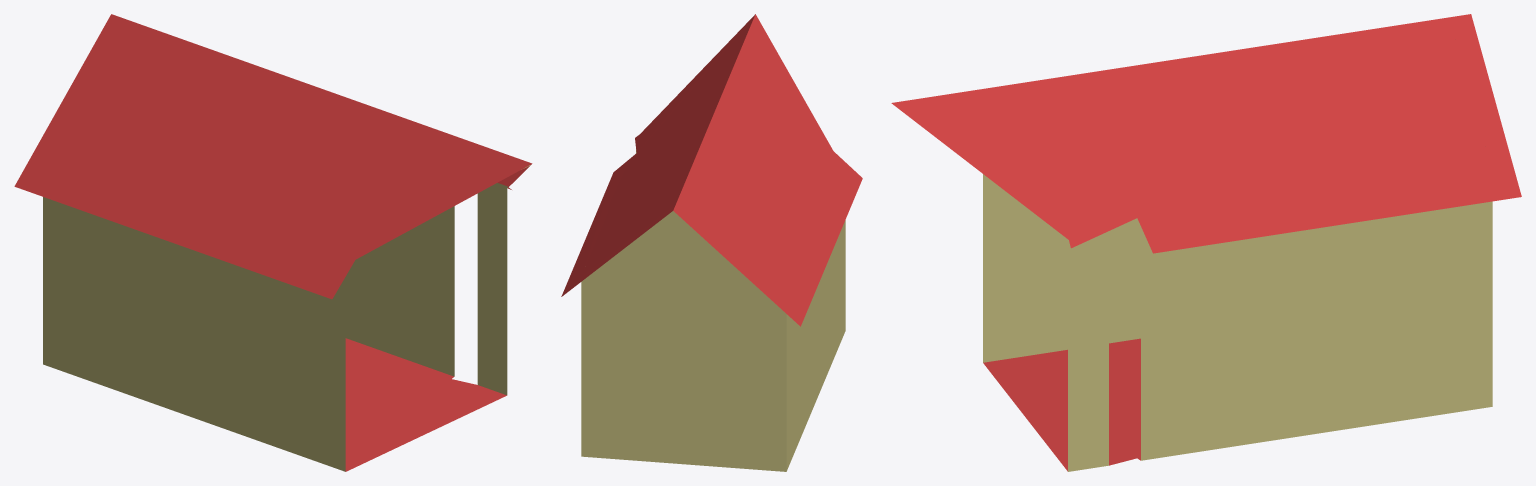
3 views of the same model, side by side, from view 1: azimuth 30°, elevation 25°; view 2: azimuth 150°, elevation 25°; view 3: azimuth 270°, elevation 25° (orthographic). The views are drawn at different scales.
Bounding box in the file's own units: 14.72 × 20.75 × 12.32.
